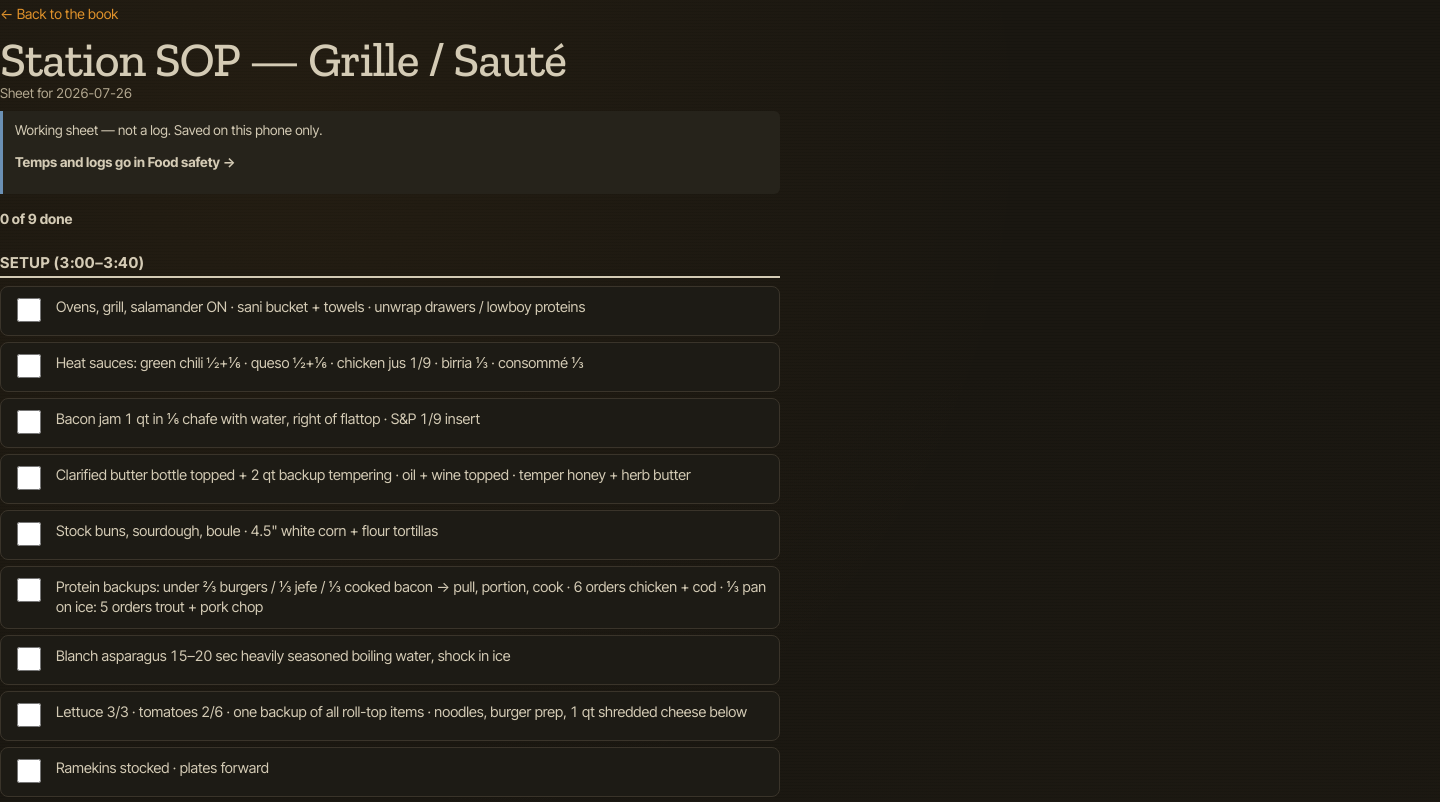
Scenario: SheetBoard — start new sheet › going back leaves the sheet alone
Click the 1st checkbox. click: coordinates (29, 310)
box: [17,298,41,322]
(page scrolled)
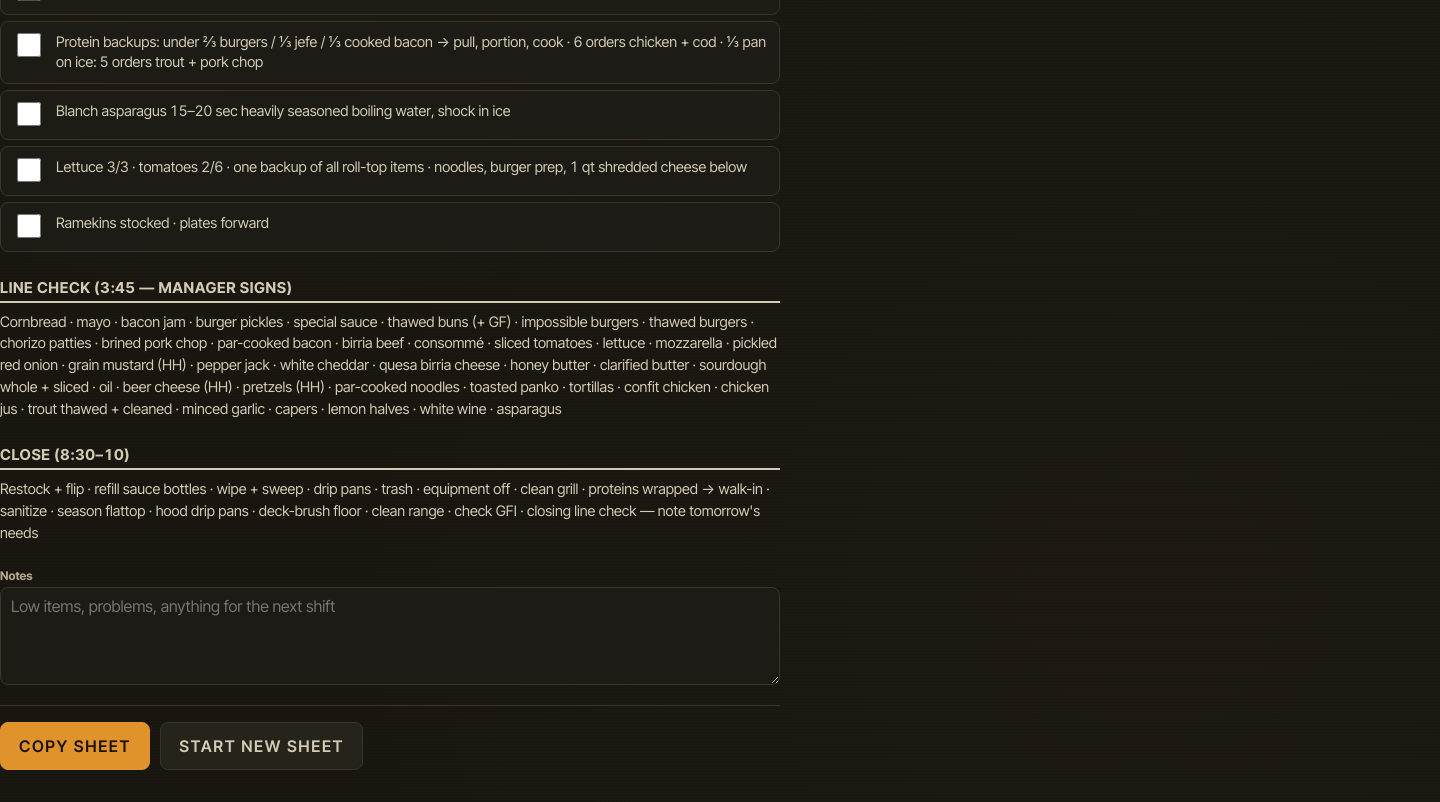
Click the button "Start new sheet". click: coordinates (262, 746)
box: [160,722,363,770]
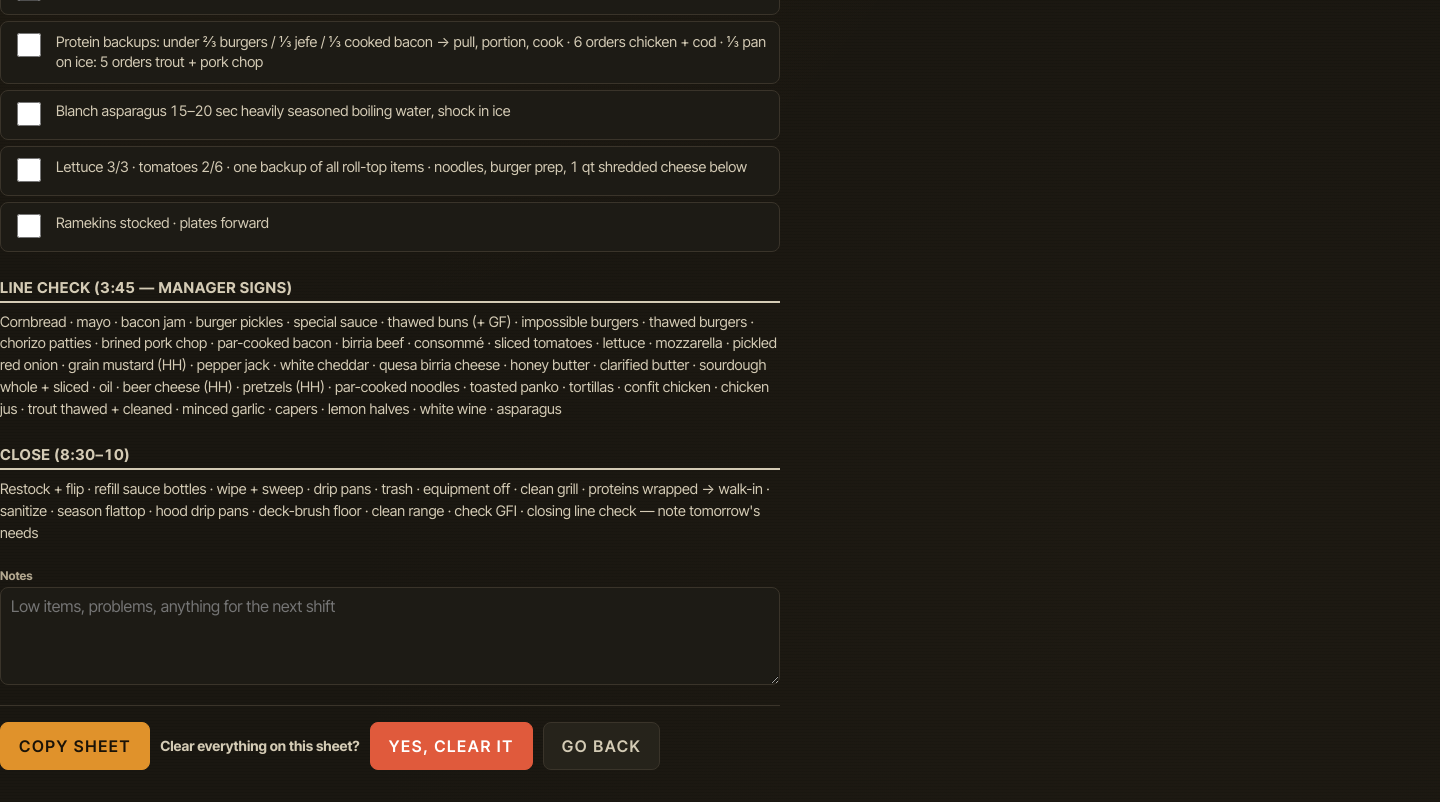
Click the button "Go back". click: coordinates (602, 746)
box: [543,722,660,770]
(page scrolled)
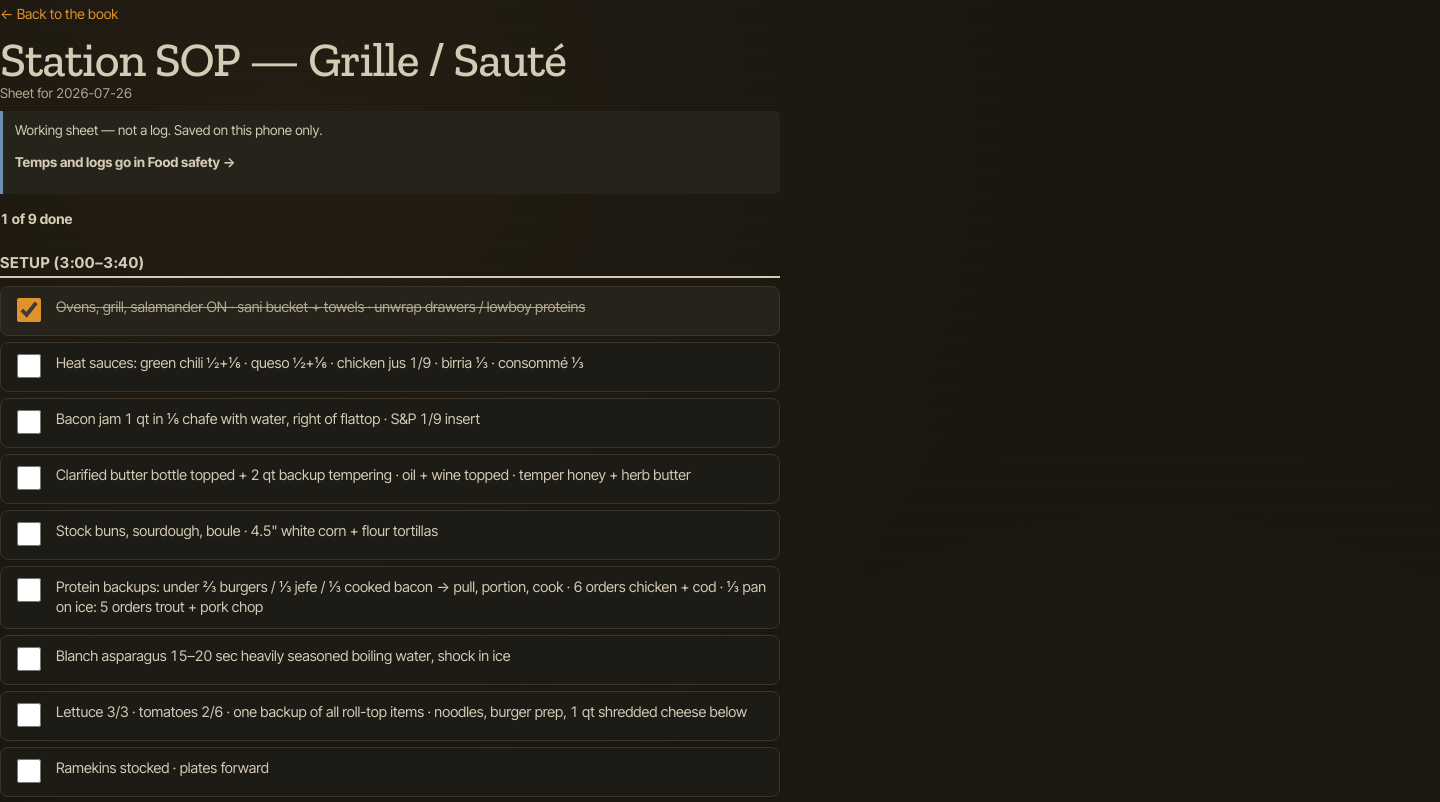
Now the 1st checkbox is checked, box [17,298,41,322]
Now the text "Clear everything on this sheet?" is gone
